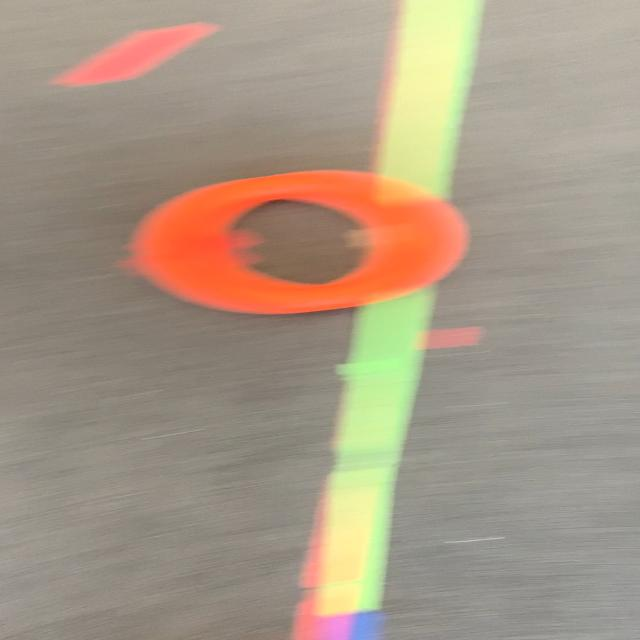notes: (133, 166, 472, 315)
